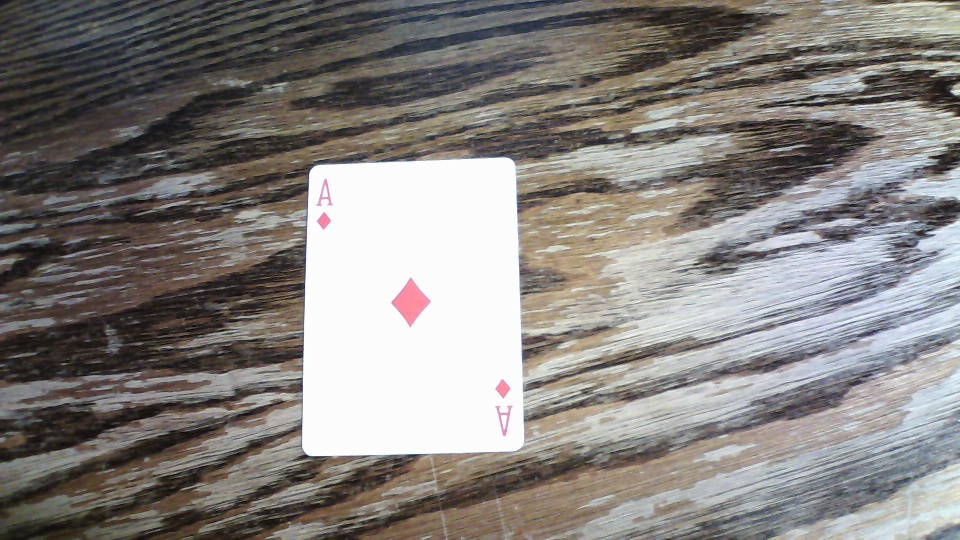ace: (303, 155, 525, 456)
